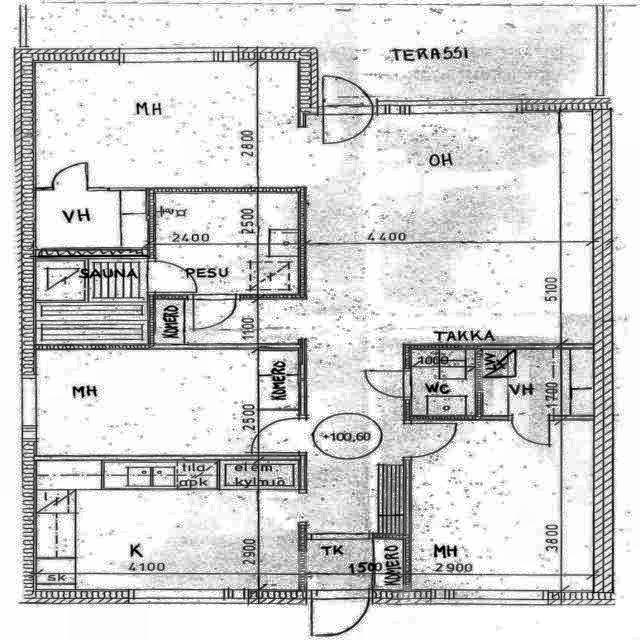room: (411, 420, 593, 592), (36, 350, 298, 456), (156, 193, 299, 295), (35, 259, 149, 345), (482, 349, 594, 415), (35, 190, 147, 249), (306, 539, 403, 590), (411, 349, 474, 415)
